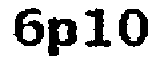0: (116, 5, 153, 54)
1: (82, 4, 114, 53)
6: (9, 3, 45, 51)
p: (46, 14, 80, 60)
